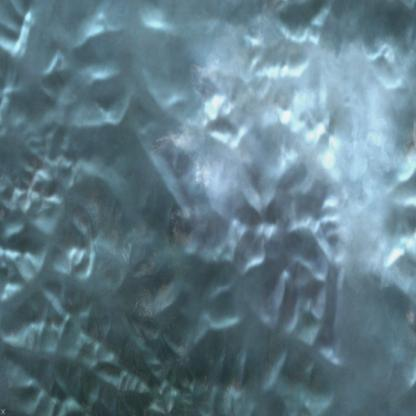fire: (148, 118, 189, 160)
